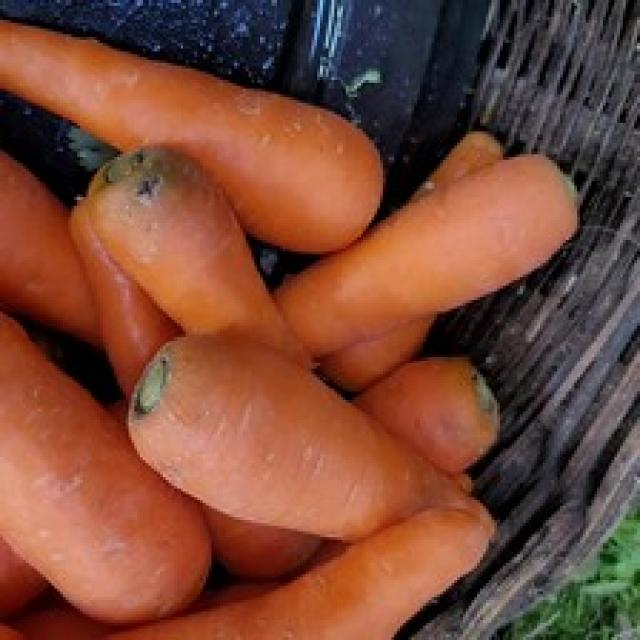Fresh_Carrot: (128, 325, 509, 536), (273, 155, 606, 355)
